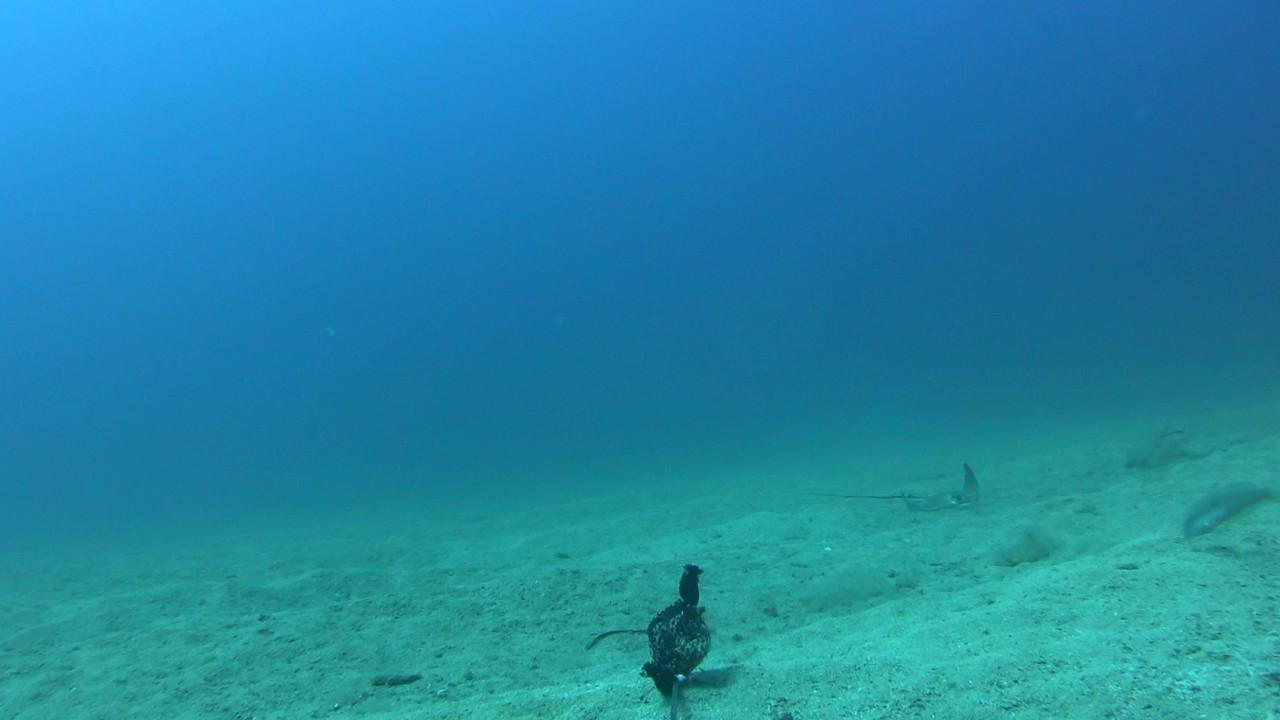myliobatis: (796, 452, 1010, 527)
raor: (1184, 480, 1279, 542)
